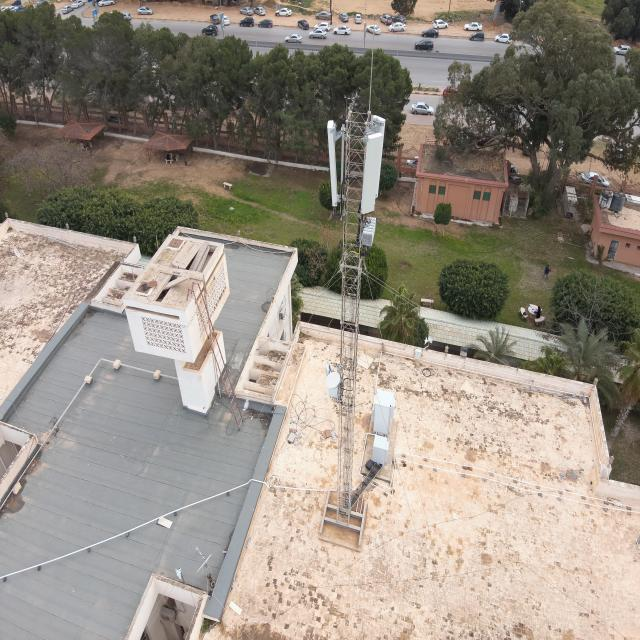antenna: (360, 130, 384, 217), (365, 114, 385, 200), (326, 117, 341, 209)
lighnig-rad: (368, 22, 375, 115)
microware-dish: (324, 364, 343, 391)
radio-unit: (359, 216, 379, 249)
